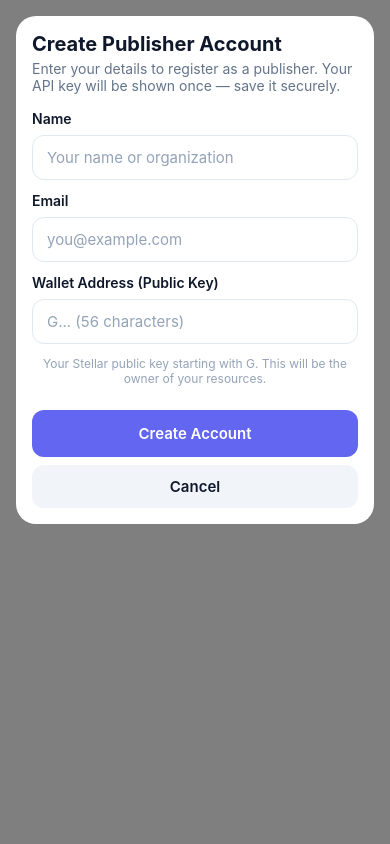
Scenario: PublisherSignupSheet › shows validation errors when fields are empty on submit
Click the button "Create Account": [195, 434] box [32,410,358,457]
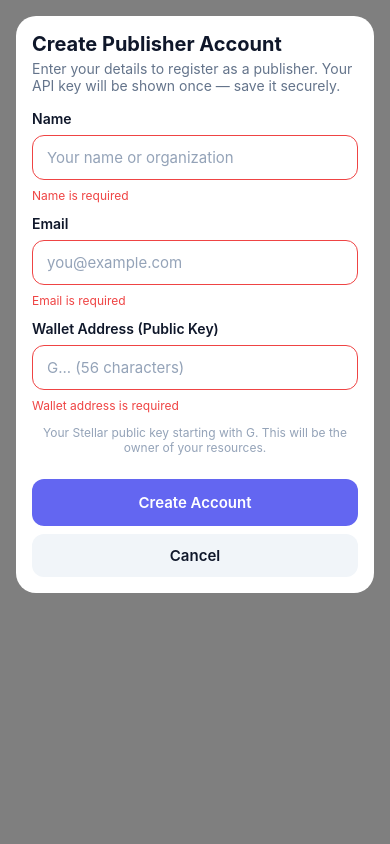
Now the text "Name is required" is shown, box [32,188,129,203]
Now the text "Email is required" is shown, box [32,293,126,308]
Now the text "Wallet address is required" is shown, box [32,398,179,413]
